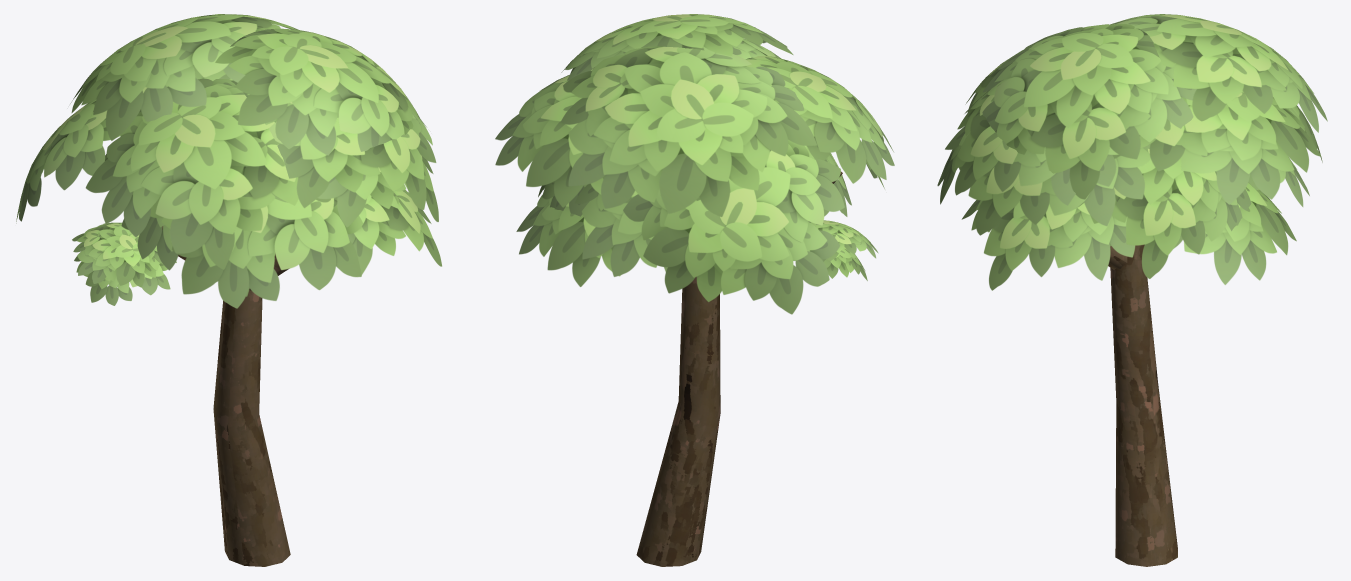
File: Tree_1.glb
The picture shows the model from 3 angles, left to right: view 1: azimuth 30°, elevation 25°; view 2: azimuth 150°, elevation 25°; view 3: azimuth 270°, elevation 25°; orthographic projection.
Parts seen in each view (by area): view 1: Tree_1_Leaves, Tree_1; view 2: Tree_1_Leaves, Tree_1; view 3: Tree_1_Leaves, Tree_1.
Boxes of the visible parts, <box> form: Tree_1_Leaves: <box>16,14,441,308</box>; Tree_1: <box>162,226,290,566</box>; Tree_1_Leaves: <box>495,14,894,314</box>; Tree_1: <box>636,171,842,566</box>; Tree_1_Leaves: <box>937,14,1327,290</box>; Tree_1: <box>1108,244,1177,566</box>.
Bounding box in the file's own units: 3.89 × 5.46 × 3.89.
2 materials, 2 textured.
